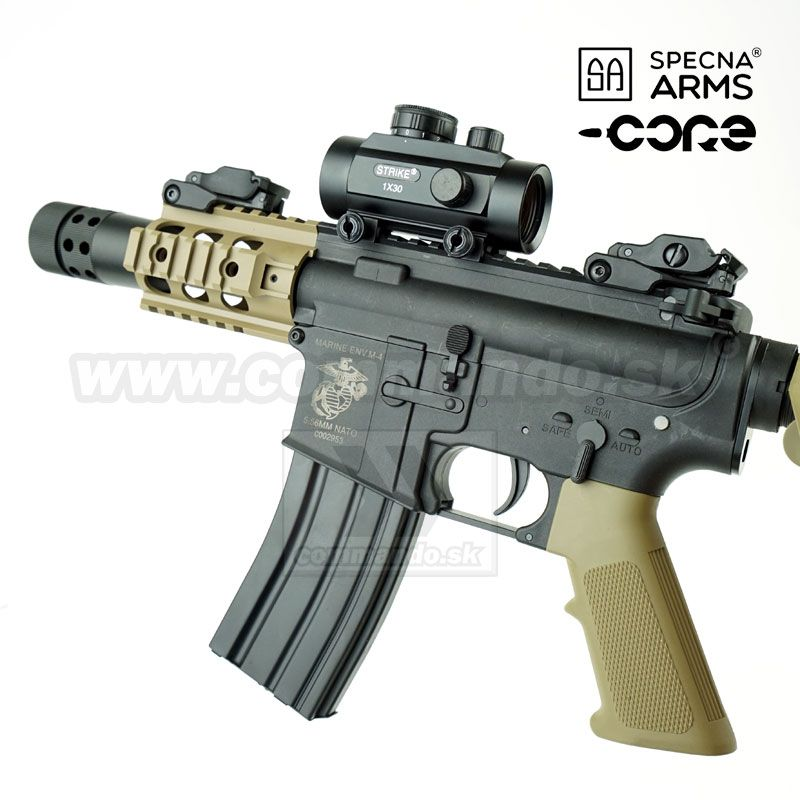m4_carbine: (207, 259, 767, 761)
